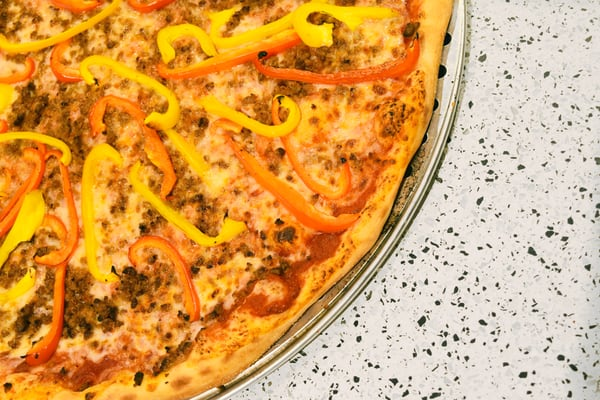sandwich: (1, 0, 432, 395)
